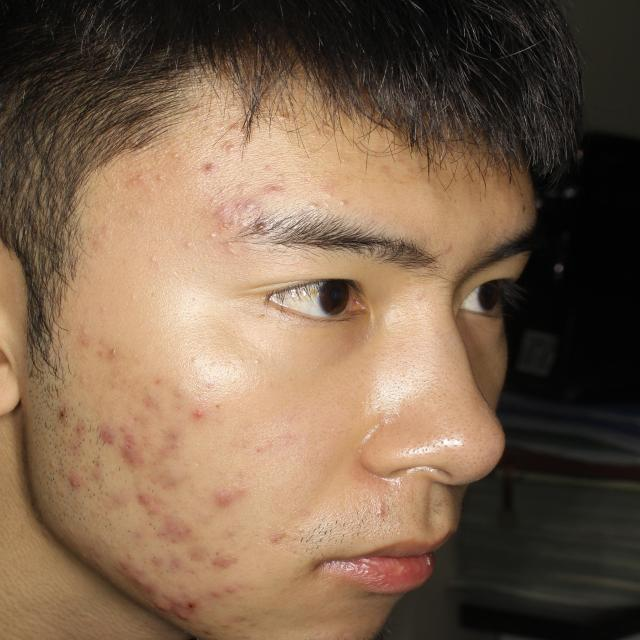papule: (210, 480, 259, 514), (100, 332, 140, 367), (156, 518, 196, 547), (207, 552, 249, 578), (148, 464, 184, 494), (62, 324, 90, 362), (172, 601, 212, 627), (130, 485, 169, 510), (251, 177, 287, 202), (214, 138, 250, 162), (112, 554, 142, 582), (56, 468, 82, 500), (182, 548, 213, 572), (245, 193, 271, 221), (185, 391, 205, 427), (138, 388, 162, 417), (95, 416, 115, 450), (190, 153, 212, 181), (84, 447, 98, 489), (114, 428, 133, 457), (147, 593, 177, 611), (230, 226, 281, 236), (139, 578, 163, 598), (218, 191, 234, 220), (166, 424, 186, 446), (70, 416, 92, 432), (56, 400, 74, 418), (155, 554, 178, 568), (127, 450, 150, 460), (234, 218, 236, 228)
